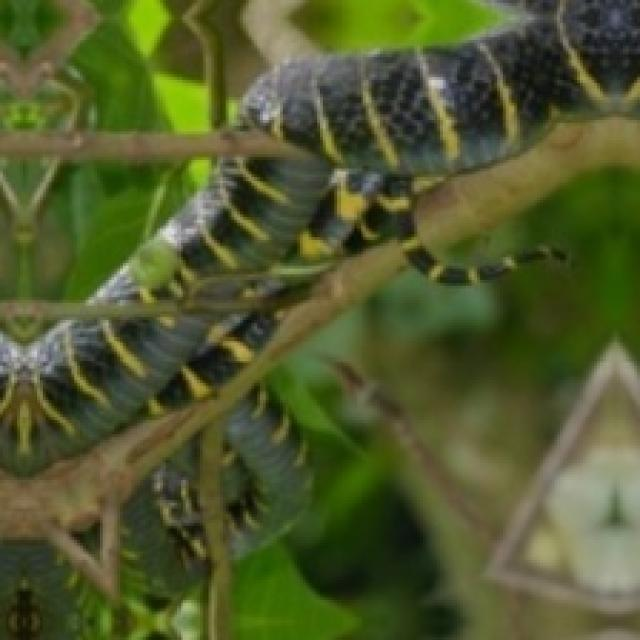mangrove cat snake: (0, 0, 640, 474), (226, 390, 305, 553), (125, 449, 205, 591)
